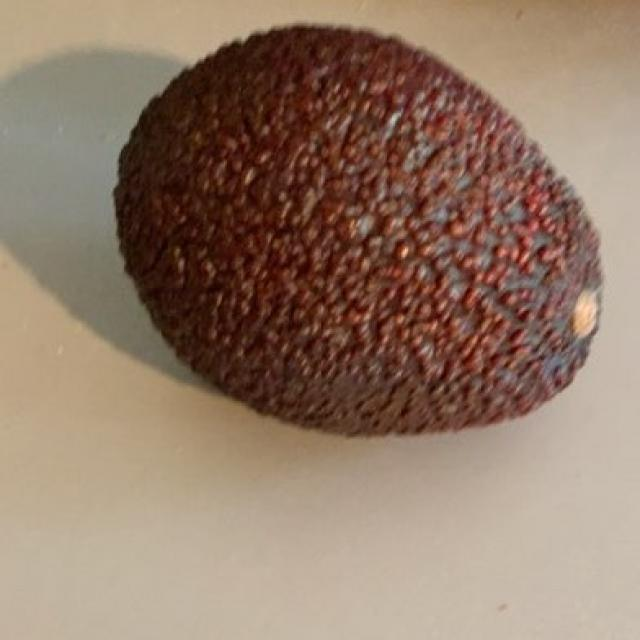avocado: (120, 30, 597, 433)
